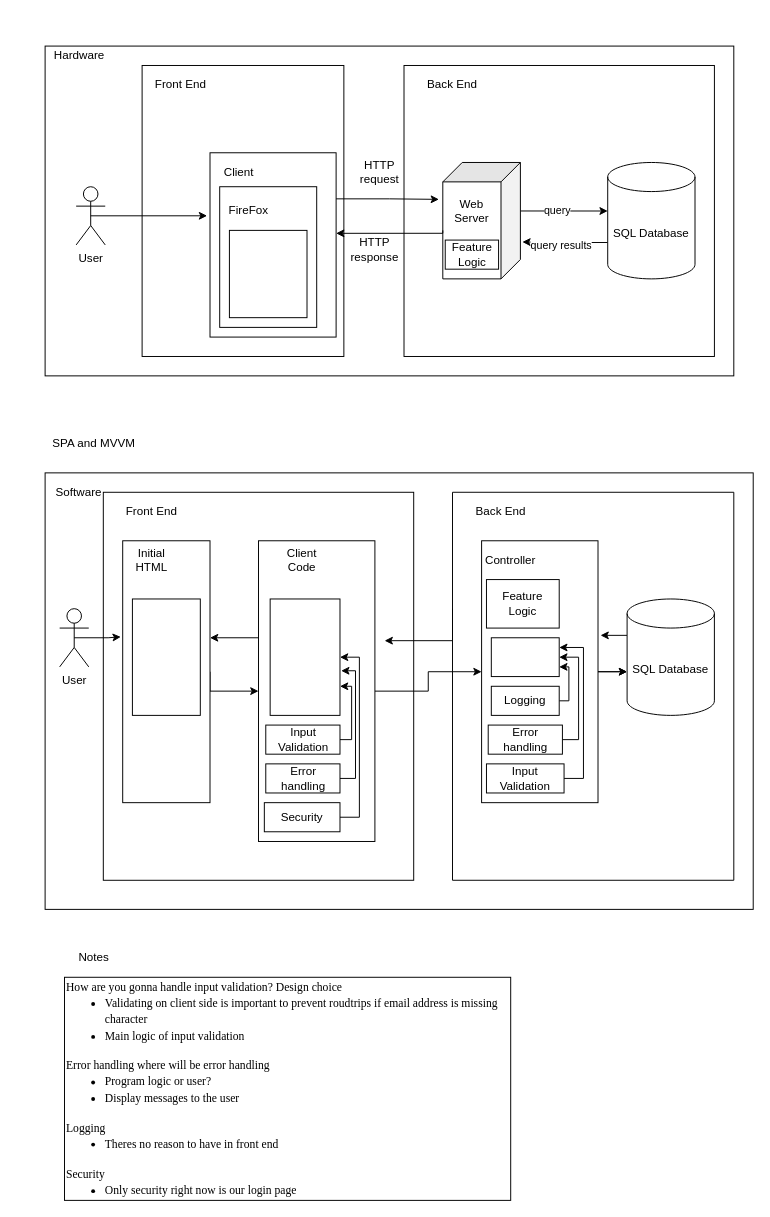
The diagram is 770 pixels wide and 1217 high, and some of its shapes have lost their labels. Here are the shapes that lost their labels. From the top down, the centre of each, then its label:
(x=267, y=273): Web Application
(x=165, y=656): View
(x=304, y=656): View Model
(x=524, y=657): Data Handling
